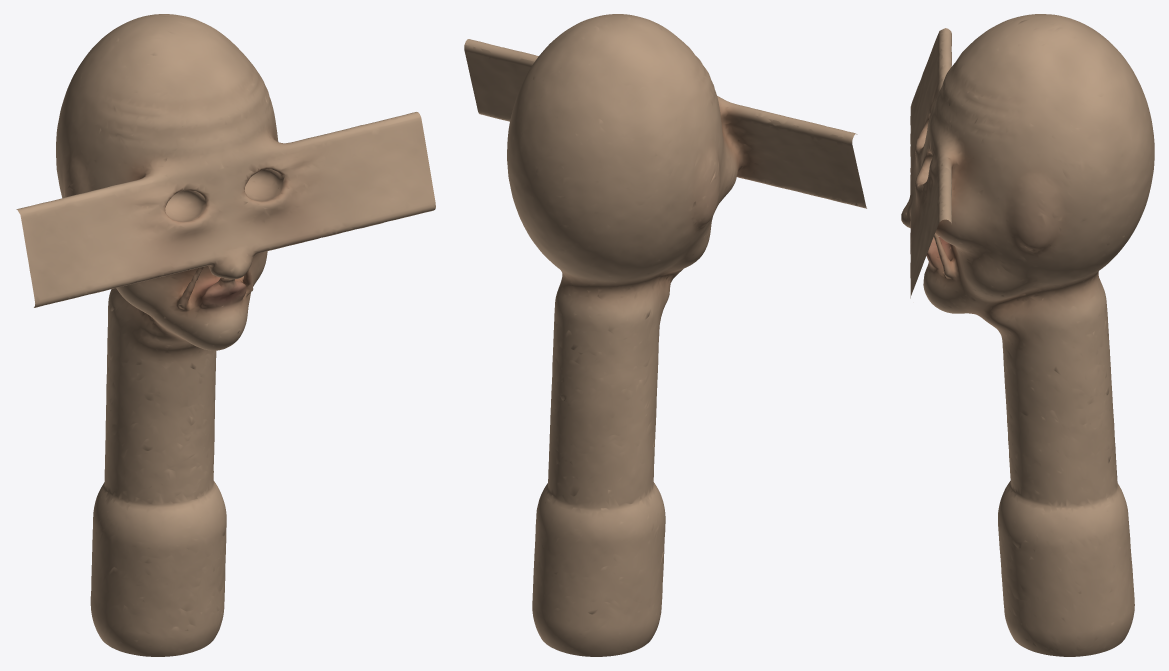
Rendered from arsiv_skin.glb.
3 views of the same model, side by side, from view 1: azimuth 30°, elevation 25°; view 2: azimuth 150°, elevation 25°; view 3: azimuth 270°, elevation 25° (orthographic). The views are drawn at different scales.
Parts seen in each view (by area): view 1: geometry_0; view 2: geometry_0; view 3: geometry_0.
Part boxes in pixels (x1,y1,x2,y2): geometry_0: [16, 14, 435, 656]; geometry_0: [464, 14, 866, 656]; geometry_0: [901, 14, 1154, 656].
Size of the model in its own units: 0.2916 by 0.4322 by 0.1633.
